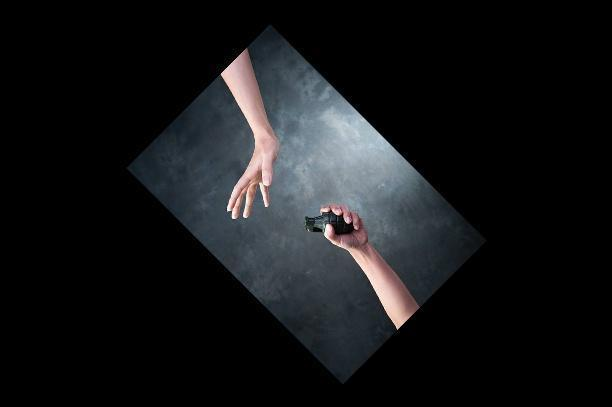Grenade: (303, 210, 354, 234)
